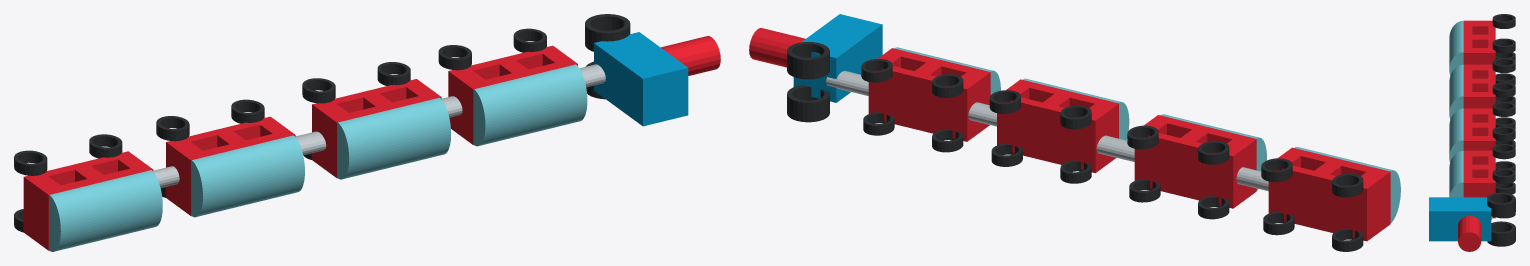
Rendered from tinker.obj.
The picture shows the model from 3 angles, left to right: view 1: azimuth 30°, elevation 25°; view 2: azimuth 150°, elevation 25°; view 3: azimuth 270°, elevation 25°; orthographic projection. The views are drawn at different scales.
Visible parts, largest first — view 1: group_0_7720667, group_0_15277357, group_0_2829873, group_0_40919, group_0_12568524; view 2: group_0_15277357, group_0_2829873, group_0_40919, group_0_12568524, group_0_7720667; view 3: group_0_15277357, group_0_2829873, group_0_7720667, group_0_40919.
Part boxes in pixels (box(x1,y1,x2,y2)): group_0_7720667: box(49, 64, 587, 251); group_0_15277357: box(23, 36, 720, 250); group_0_2829873: box(14, 14, 630, 232); group_0_40919: box(594, 32, 688, 126); group_0_12568524: box(153, 64, 605, 187); group_0_15277357: box(749, 28, 1390, 241); group_0_2829873: box(787, 42, 1363, 251); group_0_40919: box(793, 14, 882, 102); group_0_12568524: box(826, 71, 1268, 191); group_0_7720667: box(894, 47, 1400, 222); group_0_15277357: box(1458, 20, 1495, 251); group_0_2829873: box(1487, 14, 1515, 246); group_0_7720667: box(1449, 20, 1463, 197); group_0_40919: box(1429, 197, 1491, 241).
Bounding box in the file's own units: 338 × 35 × 60.
